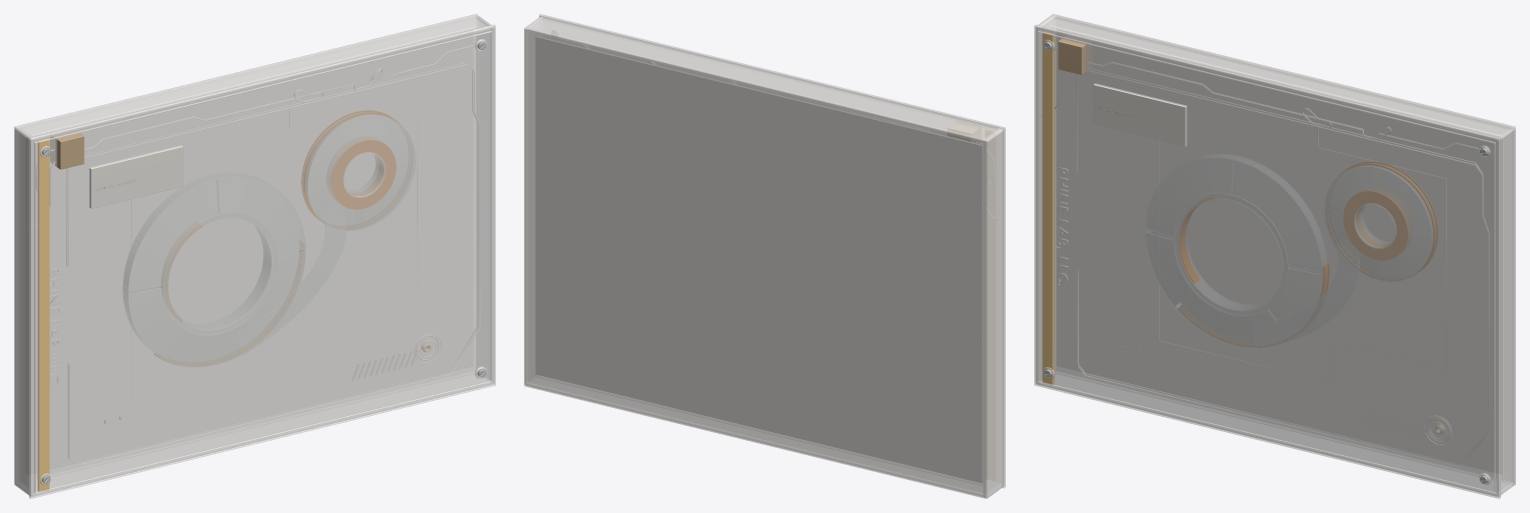
Rendered from assembly-before.glb.
3 views of the same model, side by side, from view 1: azimuth 30°, elevation 25°; view 2: azimuth 150°, elevation 25°; view 3: azimuth 330°, elevation 25° (orthographic).
Parts seen in each view (by area): view 1: cover__Frosted_Polymer.005, substrate__Optical_Diffuser.005, carrier__Ivory_Edges.005, optical-lenses__Optical_Glass_Roof.002, cover__Amber_Lightguide.005, cover__Printed_Label.005, optical-core__Optical_Glass_Body.002, optical-core__Amber_Optical_Inlay.003, optical-lenses__Optical_Bridge_Glass.002, cover__Optical_Edges.005, cover__Internal_Ceramic.005, carrier__Optical_Edges.005 (+3 smaller); view 2: carrier__Ivory_Edges.005, substrate__Optical_Diffuser.005, cover__Frosted_Polymer.005, carrier__Optical_Edges.005; view 3: cover__Frosted_Polymer.005, substrate__Optical_Diffuser.005, carrier__Ivory_Edges.005, optical-lenses__Optical_Glass_Roof.002, cover__Amber_Lightguide.005, cover__Printed_Label.005, optical-core__Amber_Optical_Inlay.003, optical-lenses__Optical_Bridge_Glass.002, cover__Optical_Edges.005, optical-core__Optical_Glass_Body.002, carrier__Optical_Edges.005, cover__Internal_Ceramic.005 (+3 smaller).
Part boxes in pixels (<box>): cover__Frosted_Polymer.005: <box>29,24,495,498</box>; substrate__Optical_Diffuser.005: <box>33,29,472,472</box>; carrier__Ivory_Edges.005: <box>14,14,493,496</box>; optical-lenses__Optical_Glass_Roof.002: <box>129,115,415,366</box>; cover__Amber_Lightguide.005: <box>37,138,49,491</box>; cover__Printed_Label.005: <box>89,145,183,208</box>; optical-core__Optical_Glass_Body.002: <box>123,113,382,354</box>; optical-core__Amber_Optical_Inlay.003: <box>154,110,399,365</box>; optical-lenses__Optical_Bridge_Glass.002: <box>240,207,346,355</box>; cover__Optical_Edges.005: <box>36,45,480,465</box>; cover__Internal_Ceramic.005: <box>36,46,478,463</box>; carrier__Optical_Edges.005: <box>32,26,477,479</box>; carrier__Ivory_Edges.005: <box>524,16,1003,498</box>; substrate__Optical_Diffuser.005: <box>536,36,982,482</box>; cover__Frosted_Polymer.005: <box>539,14,1005,488</box>; carrier__Optical_Edges.005: <box>536,33,982,485</box>; cover__Frosted_Polymer.005: <box>1034,24,1500,498</box>; substrate__Optical_Diffuser.005: <box>1057,29,1501,474</box>; carrier__Ivory_Edges.005: <box>1036,14,1515,496</box>; optical-lenses__Optical_Glass_Roof.002: <box>1145,158,1431,347</box>; cover__Amber_Lightguide.005: <box>1042,31,1054,384</box>; cover__Printed_Label.005: <box>1093,83,1187,146</box>; optical-core__Amber_Optical_Inlay.003: <box>1179,162,1437,296</box>; optical-lenses__Optical_Bridge_Glass.002: <box>1253,242,1358,347</box>; cover__Optical_Edges.005: <box>1055,62,1489,466</box>; optical-core__Optical_Glass_Body.002: <box>1146,153,1435,309</box>; carrier__Optical_Edges.005: <box>1052,26,1503,481</box>; cover__Internal_Ceramic.005: <box>1040,47,1488,464</box>.
Bounding box in the file's own units: 5 × 3.7 × 0.392.
